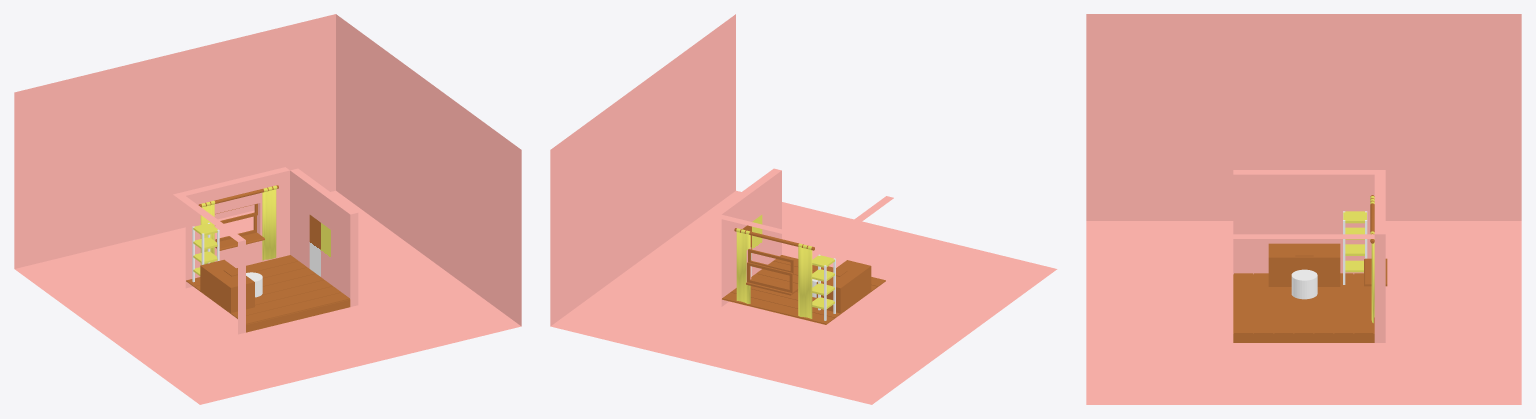
File: pomodoro_pets_room_nomaterial.glb
3 views of the same model, side by side, from view 1: azimuth 30°, elevation 25°; view 2: azimuth 150°, elevation 25°; view 3: azimuth 270°, elevation 25° (orthographic). The views are drawn at different scales.
Visible parts, largest first — view 1: background scene, wall room, wall outside, floor_planks, Cube table, curtain_r, doorway, floor, Cube shelf planes; view 2: background scene, wall outside, floor_planks, curtain_r, Cube table, wall room, window frame, Cube shelf planes, doorway; view 3: background scene, wall room, floor_planks, Cube table, floor, Cube shelf planes, Cylinder Chair, wall outside.
Boxes of the visible parts, <box> form: background scene: <box>14,14,521,404</box>; wall room: <box>173,167,289,334</box>; wall outside: <box>290,168,358,306</box>; floor_planks: <box>186,255,349,324</box>; Cube table: <box>200,259,254,312</box>; curtain_r: <box>200,189,276,265</box>; doorway: <box>309,215,330,284</box>; floor: <box>246,299,350,332</box>; Cube shelf planes: <box>193,223,217,275</box>; background scene: <box>550,14,1057,404</box>; wall outside: <box>714,168,781,306</box>; floor_planks: <box>722,255,885,324</box>; curtain_r: <box>736,232,812,318</box>; Cube table: <box>816,260,871,313</box>; wall room: <box>717,196,893,295</box>; window frame: <box>747,249,793,292</box>; Cube shelf planes: <box>812,255,834,309</box>; doorway: <box>742,215,762,276</box>; background scene: <box>1086,14,1521,404</box>; wall room: <box>1233,170,1387,342</box>; floor_planks: <box>1234,273,1373,333</box>; Cube table: <box>1268,243,1340,286</box>; floor: <box>1233,274,1374,342</box>; Cube shelf planes: <box>1343,211,1366,272</box>; Cylinder Chair: <box>1291,269,1317,299</box>; wall outside: <box>1233,234,1374,238</box>.
Bounding box in the file's own units: 8 × 4.2 × 8.
2 materials, 2 textured.
